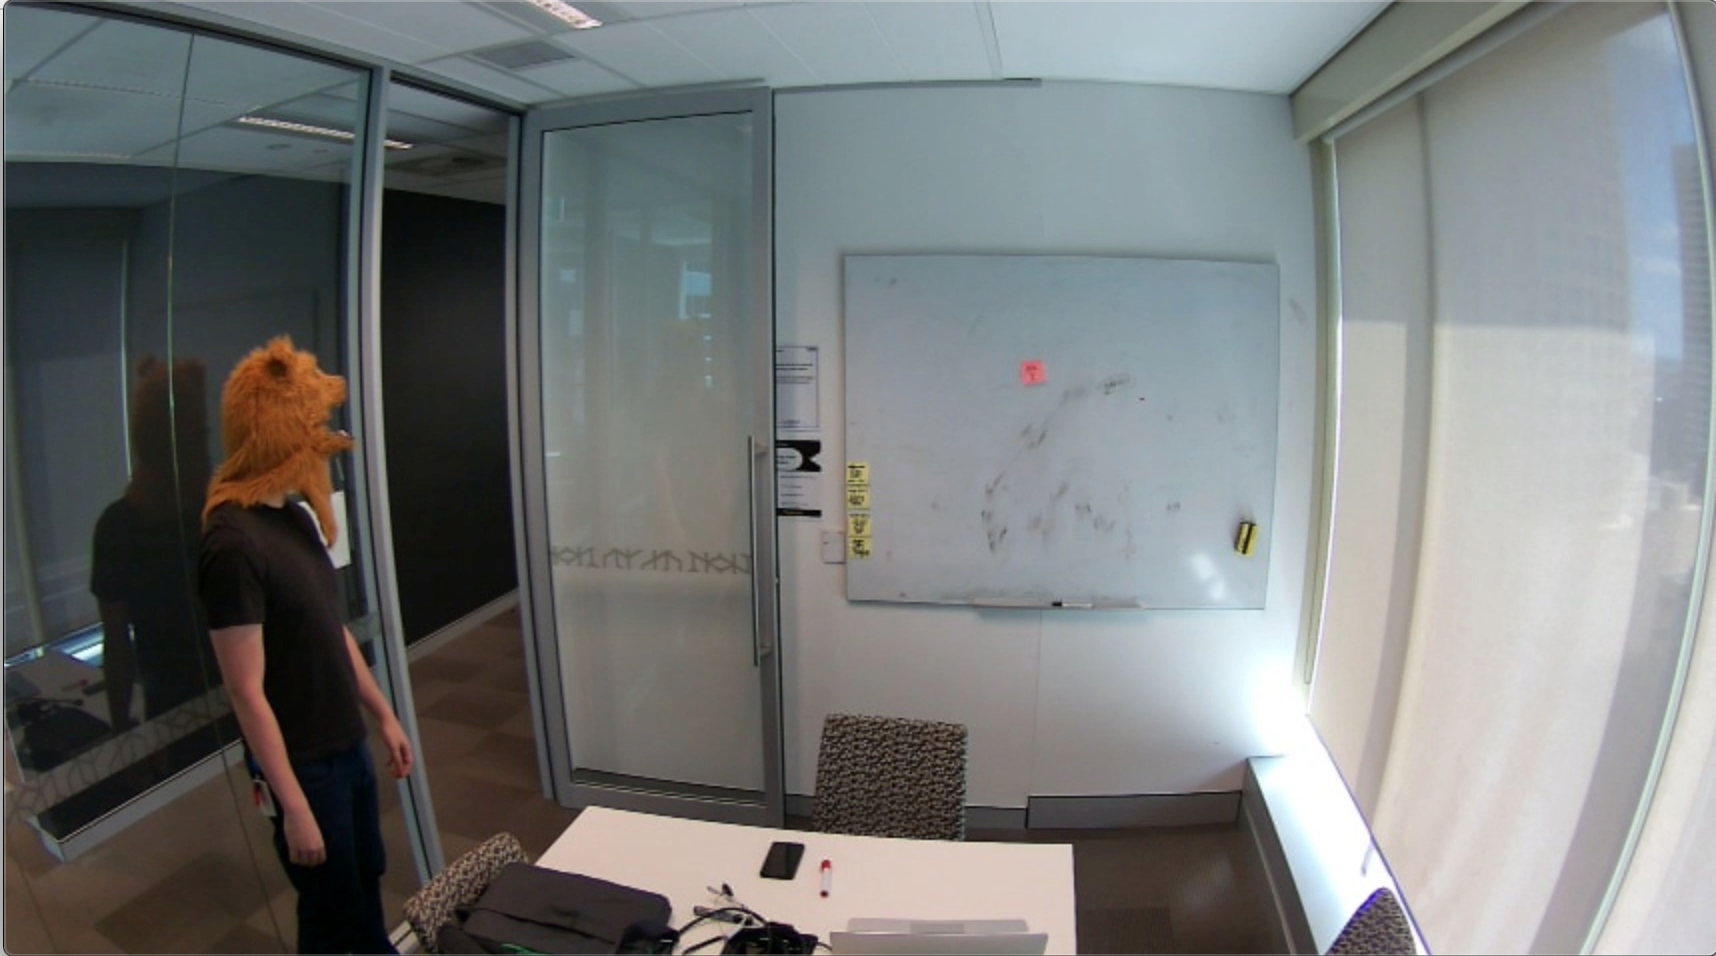Bear: (211, 328, 360, 473)
